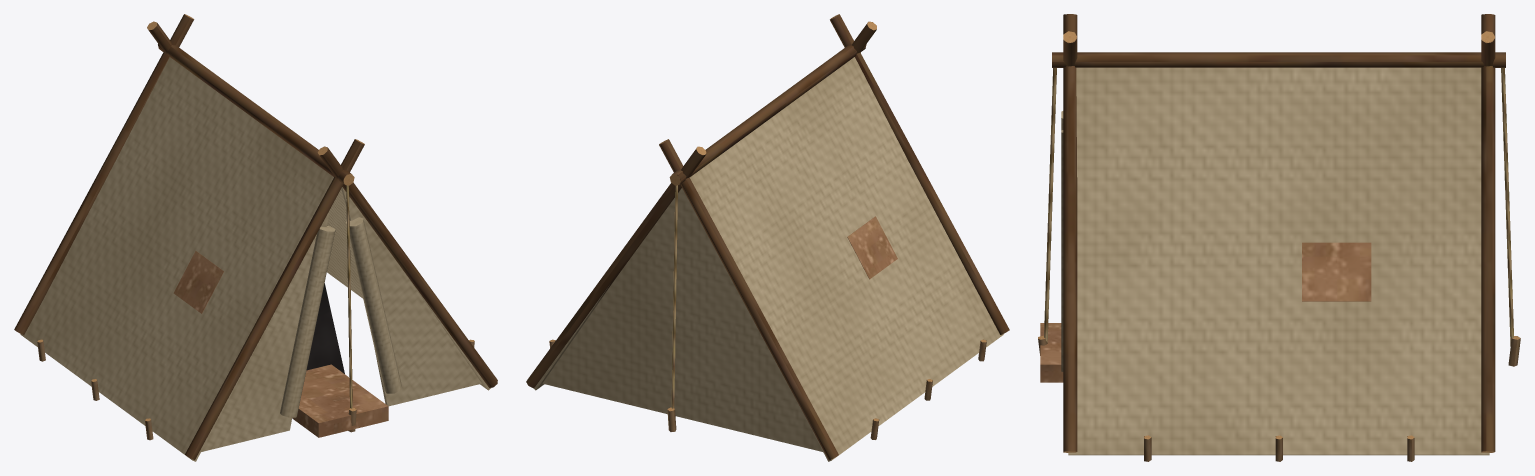
File: tent.glb
3 renders of one model, left to right at view 1: azimuth 30°, elevation 25°; view 2: azimuth 150°, elevation 25°; view 3: azimuth 270°, elevation 25°, orthographic. The views are drawn at different scales.
Visible parts, largest first — view 1: tent; view 2: tent; view 3: tent.
Boxes of the visible parts, bbox=[...] form: tent: bbox=[14, 14, 497, 461]; tent: bbox=[526, 14, 1009, 461]; tent: bbox=[1038, 14, 1520, 461].
Bounding box in the file's own units: 2.83 × 2.32 × 2.93.
Materials: 1 (1 with a texture image).
